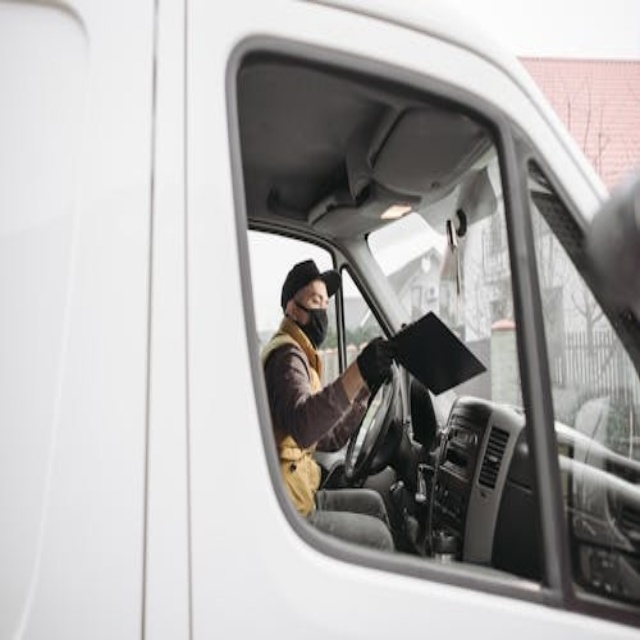Guantes: (357, 336, 395, 390)
Mascara: (291, 297, 329, 347)
Sin_gafas: (297, 284, 332, 310)
